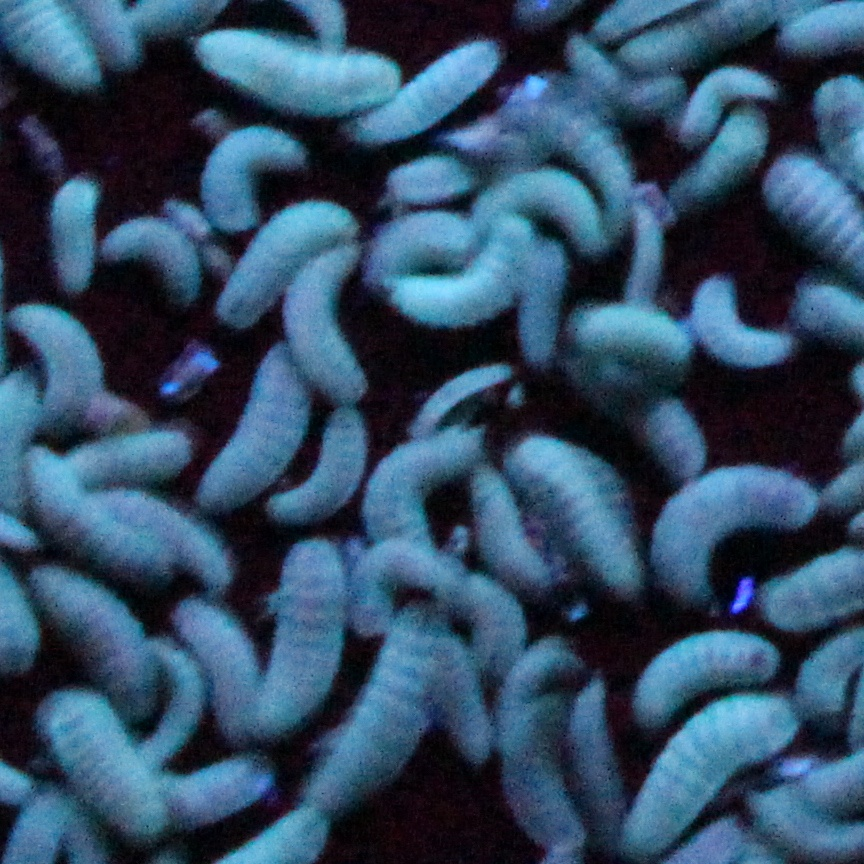larve: (316, 624, 432, 799), (639, 701, 776, 848), (665, 469, 807, 573), (535, 445, 630, 585), (230, 196, 344, 301), (267, 550, 341, 710), (35, 462, 142, 569), (214, 357, 293, 499), (209, 38, 381, 103), (367, 52, 499, 136), (51, 576, 142, 696), (365, 431, 474, 531), (588, 355, 690, 460), (509, 699, 574, 850), (639, 639, 762, 718), (69, 711, 149, 832), (302, 248, 365, 401), (402, 238, 527, 315), (11, 303, 93, 420), (207, 124, 299, 227), (553, 92, 623, 206), (281, 417, 353, 527), (128, 494, 216, 580), (702, 280, 793, 360), (479, 473, 544, 585), (362, 534, 432, 638), (192, 604, 253, 722), (106, 224, 197, 299), (574, 683, 616, 832), (176, 750, 272, 815), (439, 636, 493, 748), (72, 431, 190, 480), (483, 176, 600, 225), (688, 115, 758, 194), (413, 371, 499, 429), (506, 641, 578, 708), (579, 304, 678, 352), (572, 45, 663, 96), (686, 73, 756, 136), (469, 576, 516, 669), (374, 222, 458, 271), (56, 176, 93, 283), (527, 243, 558, 357), (163, 648, 195, 746), (399, 162, 476, 196), (634, 196, 658, 304)
